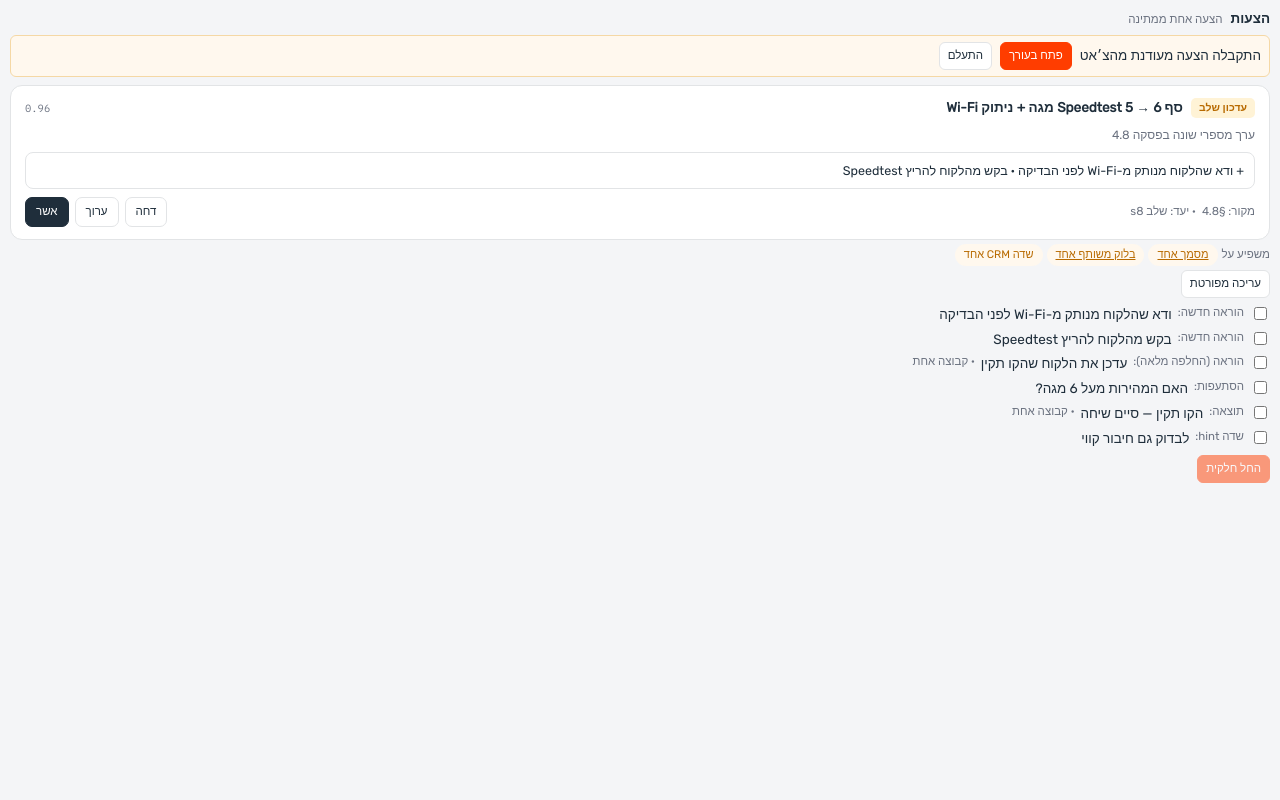
Test case: <SuggestionsPanel> › a refinement from the chat opens the drawer prefilled
The width and height of the screenshot is (1280, 800).
expect the text "התקבלה הצעה מעודנת מהצ׳אט" is shown: met, box [1080,45,1261,66]
Click the button "פתח בעורך" at (1036, 56), box [1000,42,1072,70]
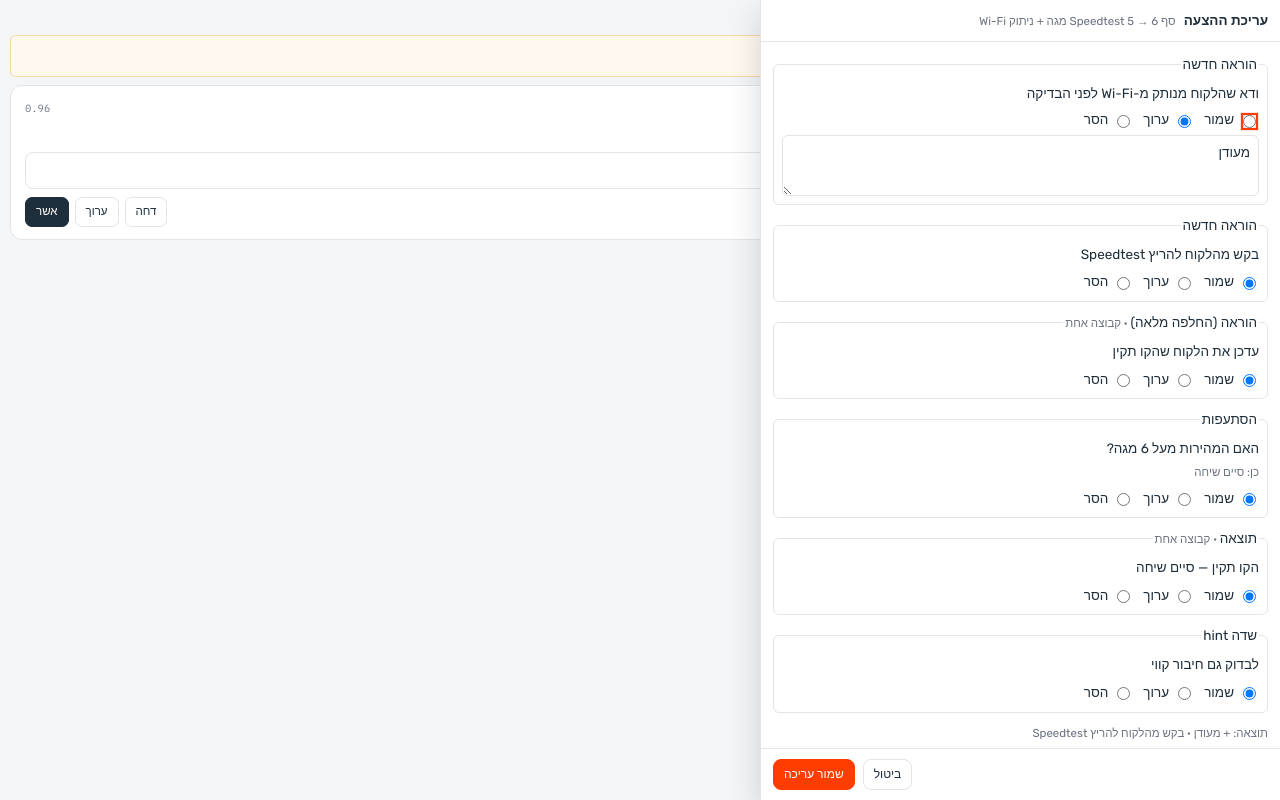
expect the text box named "ערך חדש · הוראה חדשה" holds "מעודן": met, box [782,135,1259,196]
